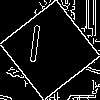I: (25, 25, 44, 72)
